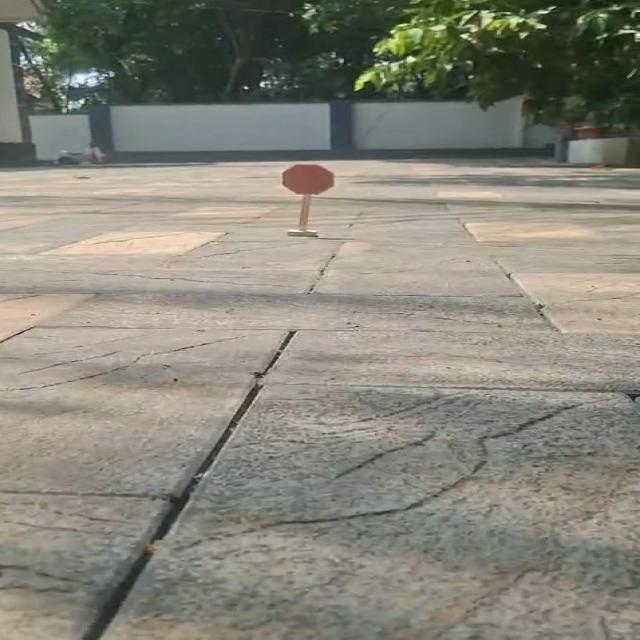Stop: (272, 160, 345, 200)
